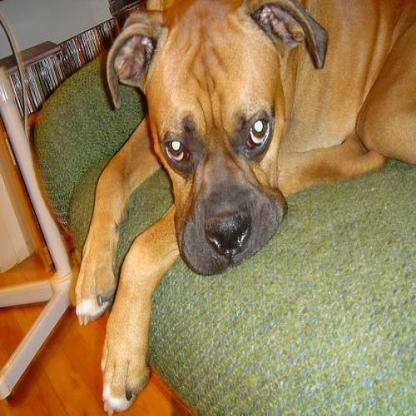boxer: (71, 0, 414, 414)
